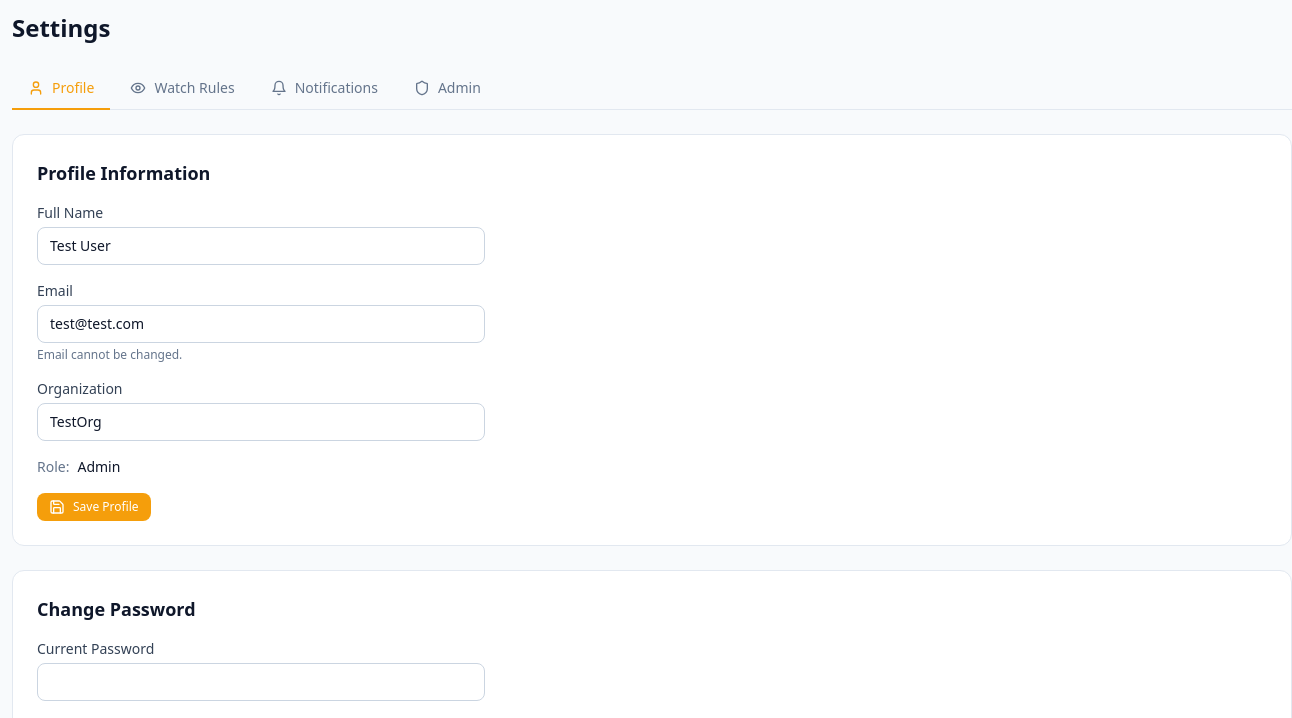
Test: Settings tab navigation › switches to Notifications tab
Click the tab "Notifications".
click(324, 89)  # box x1=255 y1=68 x2=394 y2=110
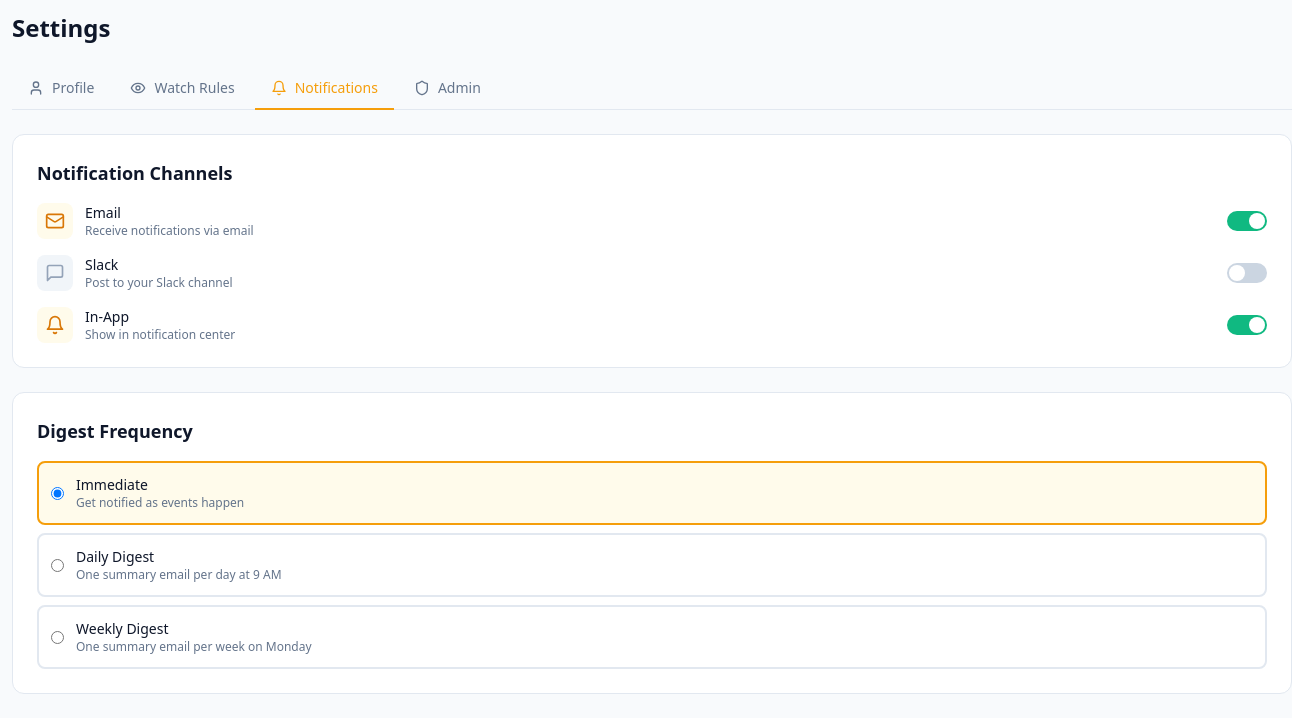
Expected: the heading "Notification Channels" is shown, x1=37 y1=161 x2=232 y2=185
Expected: the heading "Digest Frequency" is shown, x1=37 y1=419 x2=193 y2=443
